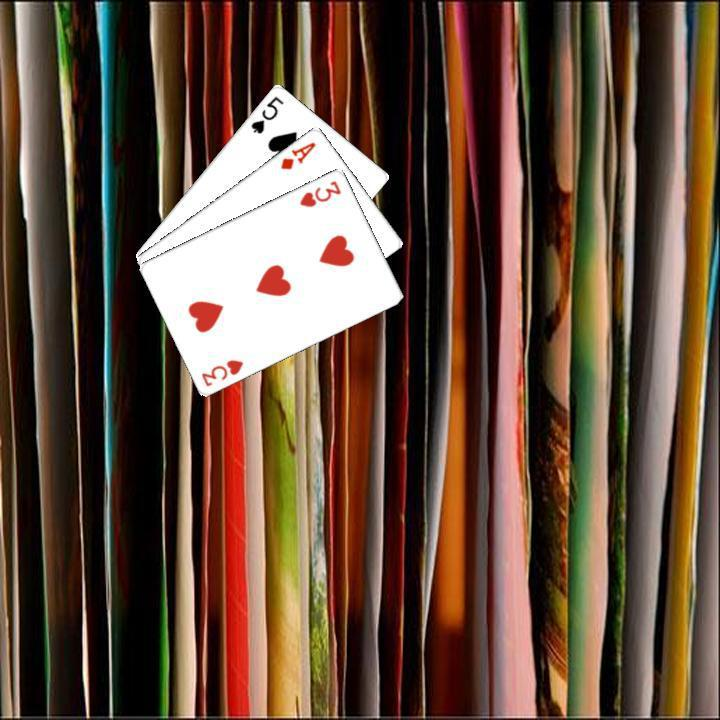3: (197, 355, 246, 388), (295, 176, 343, 209)
5: (246, 91, 286, 135)
A: (276, 137, 318, 171)
